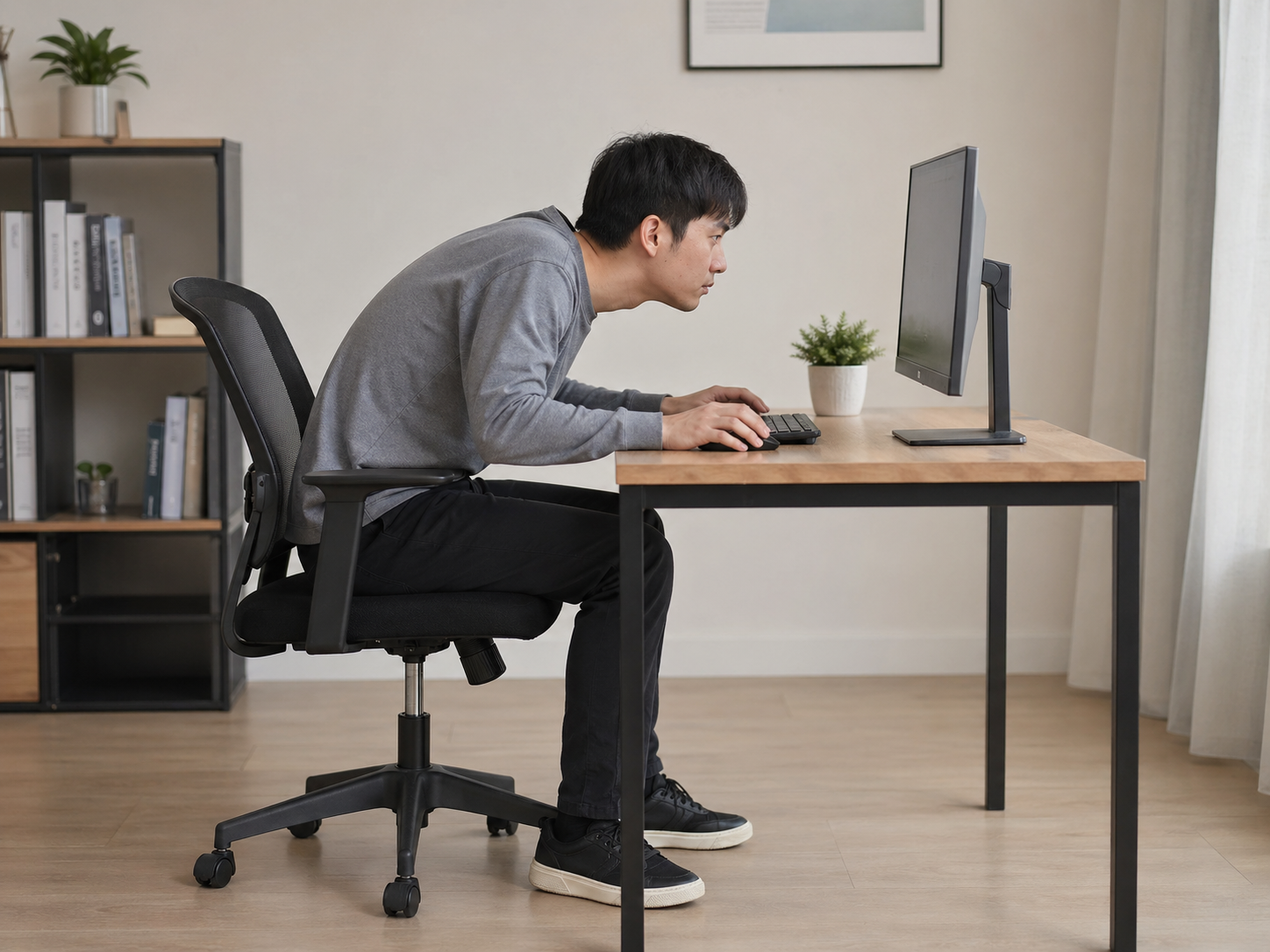sitting_bad: (278, 123, 784, 889)
